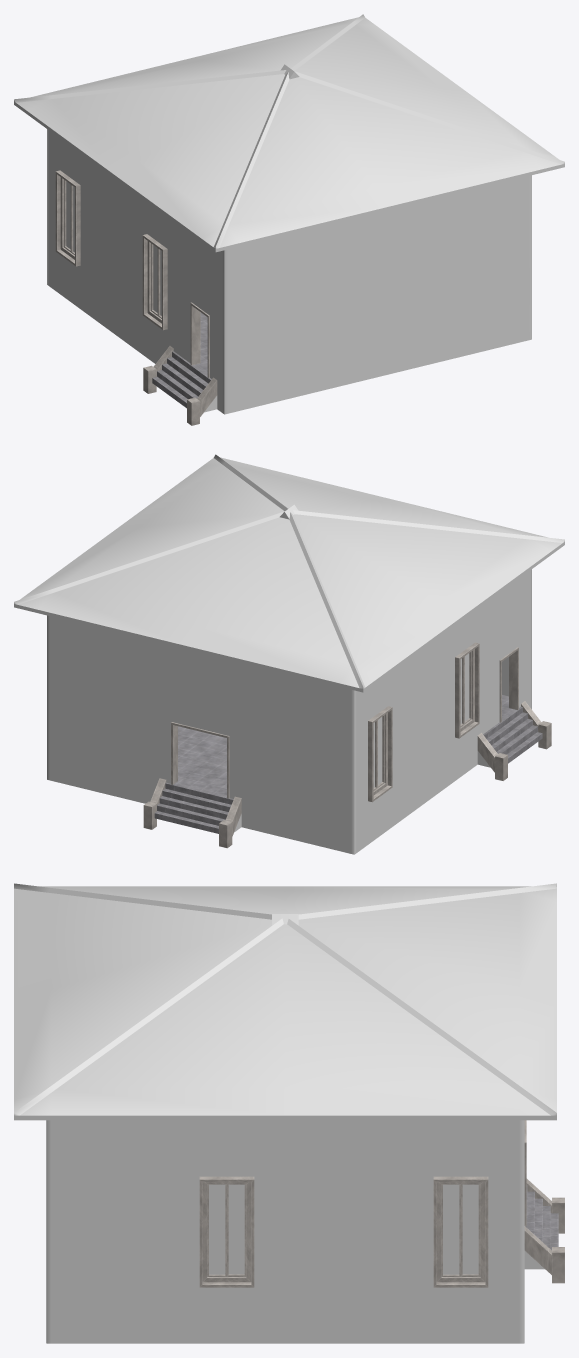
Rendered from Structure_A.fbx.
The picture shows the model from 3 angles, top to bottom: view 1: azimuth 30°, elevation 25°; view 2: azimuth 150°, elevation 25°; view 3: azimuth 270°, elevation 25°; orthographic projection. The views are drawn at different scales.
Parts seen in each view (by area): view 1: Structure_A; view 2: Structure_A; view 3: Structure_A.
Boxes of the visible parts, <box> form: Structure_A: <box>14,14,564,425</box>; Structure_A: <box>14,454,564,854</box>; Structure_A: <box>14,883,564,1343</box>.
Size of the model in its own units: 14.12 by 14.12 by 9.67.
